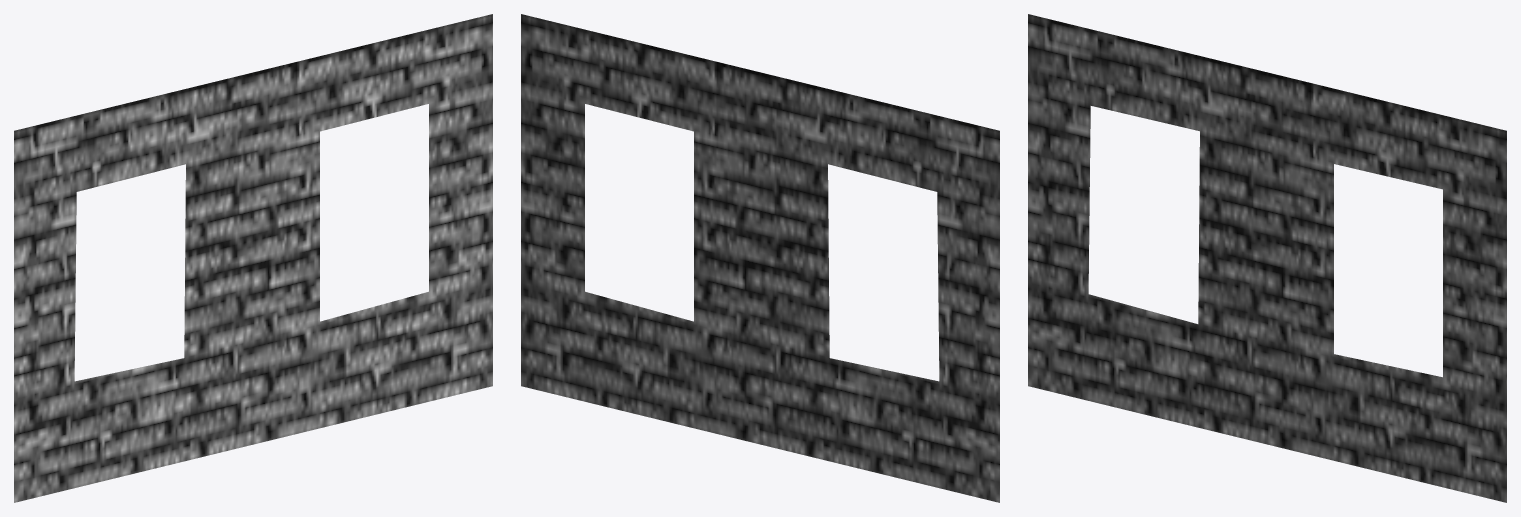
The model's file is W_AI2r_ff [GraueZiegel]_934.glb.
The picture shows the model from 3 angles, left to right: view 1: azimuth 30°, elevation 25°; view 2: azimuth 150°, elevation 25°; view 3: azimuth 330°, elevation 25°; orthographic projection.
Visible parts, largest first — view 1: pPlaneShape2; view 2: pPlaneShape2; view 3: pPlaneShape2.
Boxes of the visible parts, x1,y1,x2,y2 form: pPlaneShape2: (14, 14, 492, 502); pPlaneShape2: (521, 14, 999, 502); pPlaneShape2: (1028, 14, 1506, 502).
Bounding box in the file's own units: 0.4693 × 0.3486 × 1.24e-07.
Materials: 1 (1 with a texture image).
